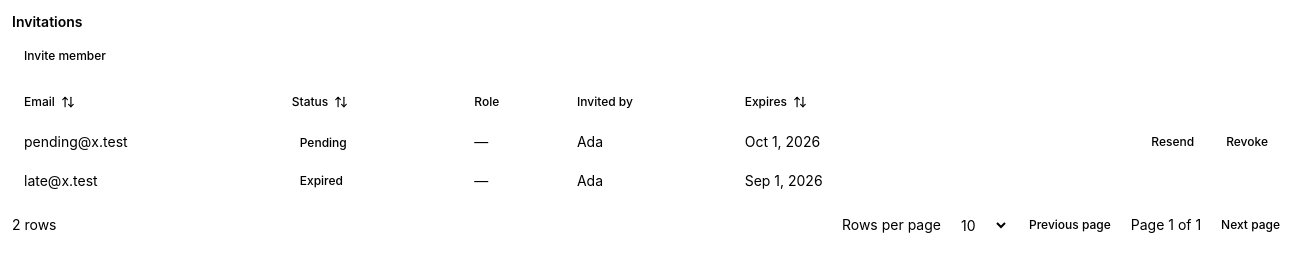
Test case: Resend and revoke: refusals are named, a gone row reloads, a dropped connection shows (F-156) › resend of an invitation no longer pending says so and reloads the list
Check: the text "pending@x.test" is shown, box [12,120,280,164]
Click the button "Resend" at (1173, 142), box [1139,126,1206,158]
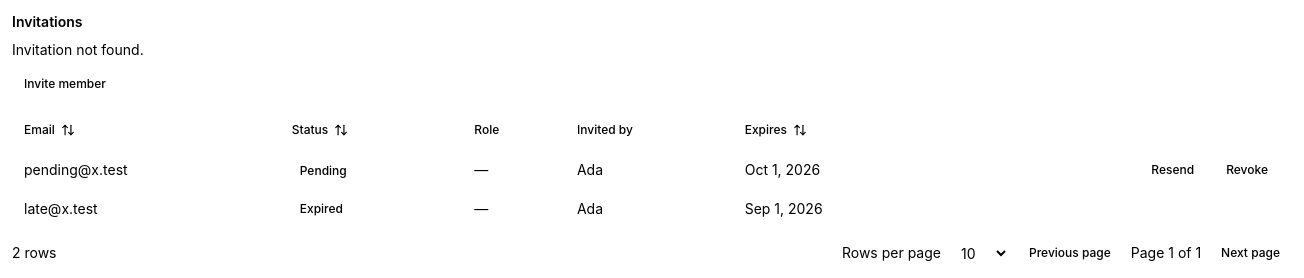
Check: the message reads "Invitation not found.", box [12,41,144,58]
